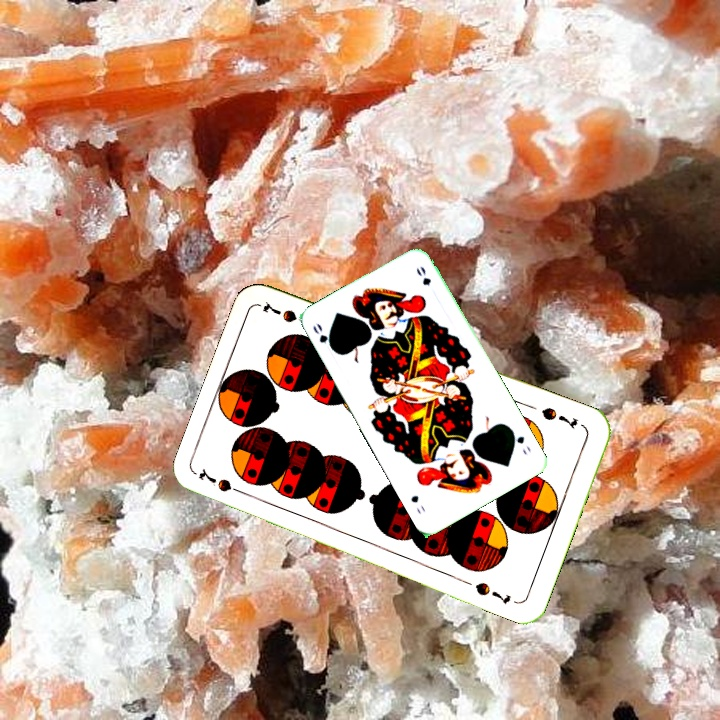GO: (309, 319, 338, 355), (506, 425, 534, 457)
S7: (195, 466, 251, 499), (537, 403, 581, 432)
